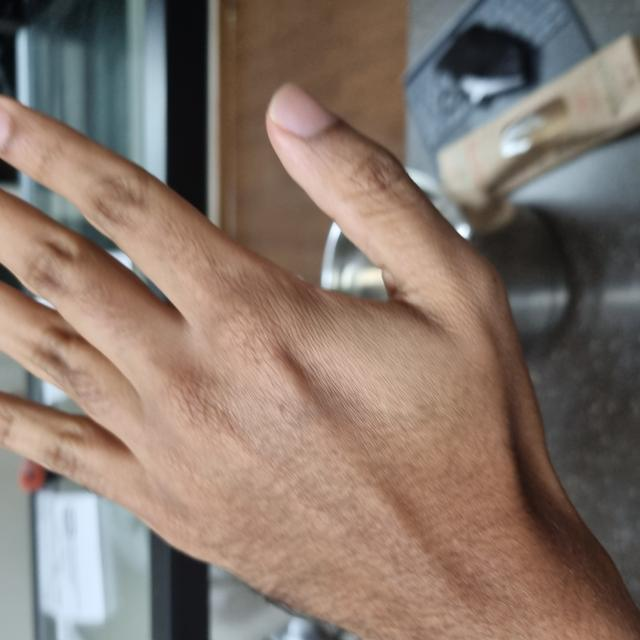Paper: (1, 0, 548, 551)
